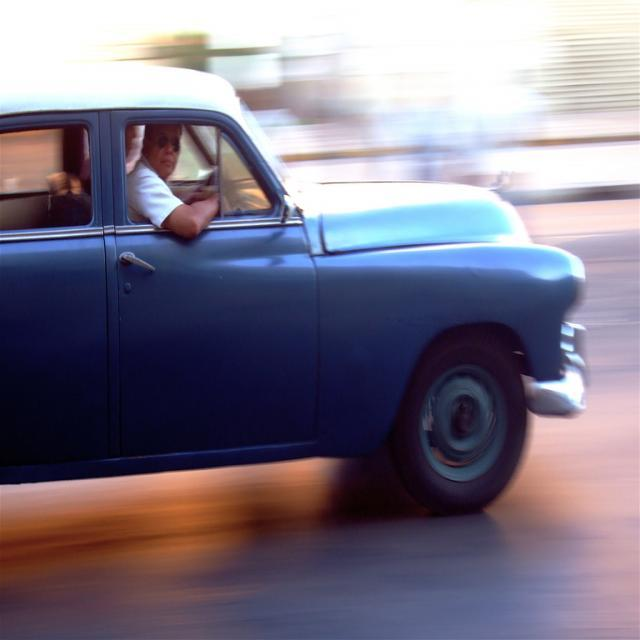truck: (9, 56, 588, 530)
